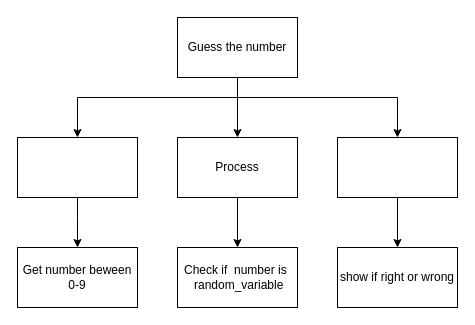
Some shapes in this 475 by 325 pixel diagram are drawn without their labels. Each missing label, with the centre of its shape:
"Input" goes at [77,167].
"Output" goes at [397,167].
